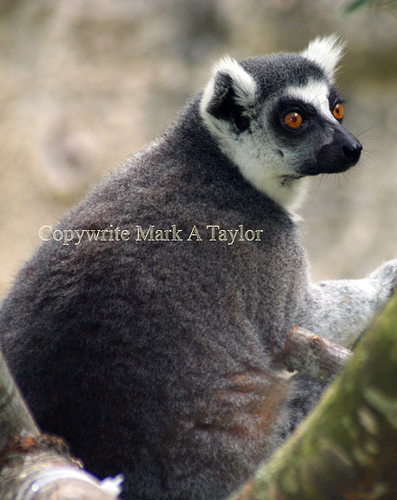cat: (1, 28, 395, 498)
